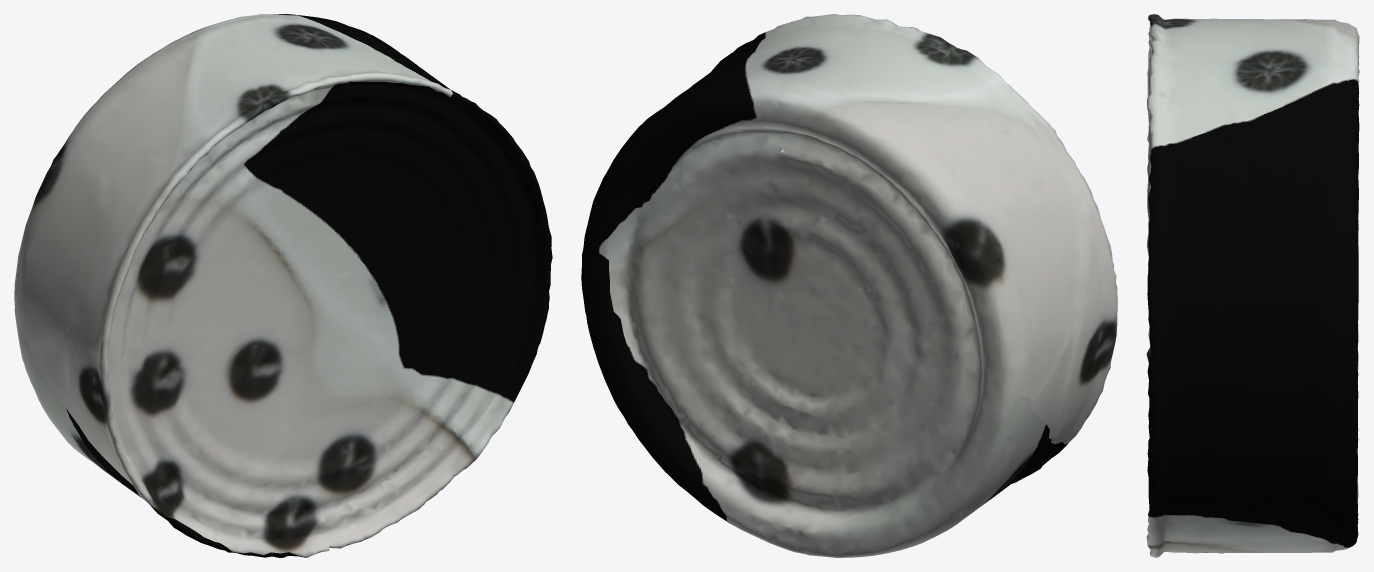
The picture shows the model from 3 angles, left to right: view 1: azimuth 30°, elevation 25°; view 2: azimuth 150°, elevation 25°; view 3: azimuth 270°, elevation 25°; orthographic projection. The views are drawn at different scales.
Visible parts, largest first — view 1: textured.006; view 2: textured.006; view 3: textured.006.
Part boxes in pixels (x1=…): textured.006: x1=14, y1=14, x2=552, y2=557; textured.006: x1=581, y1=14, x2=1117, y2=557; textured.006: x1=1146, y1=14, x2=1359, y2=557.
Bounding box in the file's own units: 0.0855 × 0.0856 × 0.0335.
